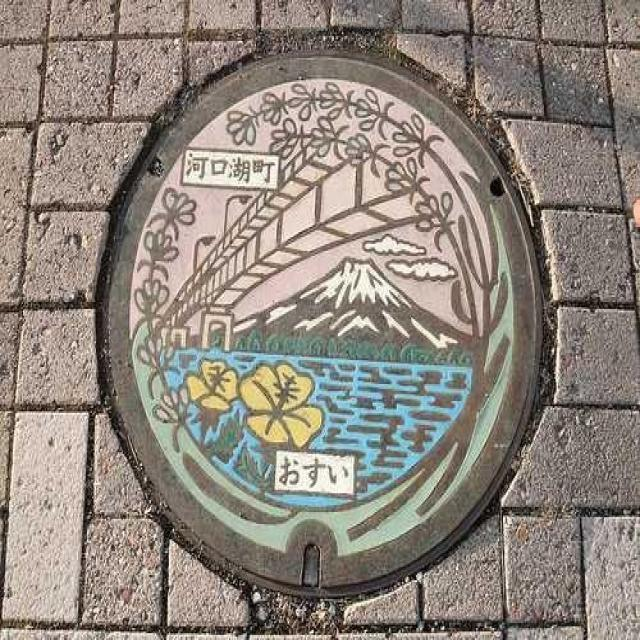manhole: (92, 48, 553, 602)
